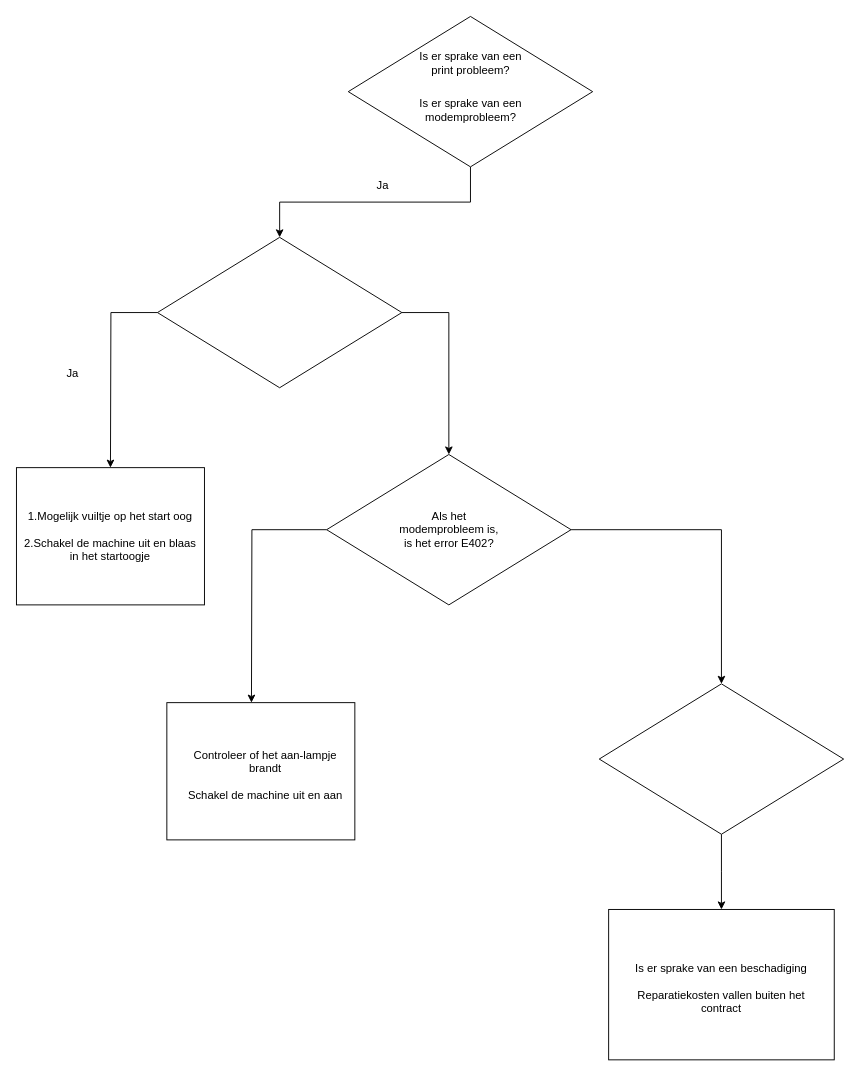
Image size: 860x1076. Some labels were removed from this diagram. The shapes that lost their labels are listed below. From the top down, each one's box as (x1, y1, x2, y2) in pixels, then its label:
(157, 236, 402, 388): Als het een modemprobleem is, is het error E93?
(598, 683, 844, 834): Als het modemprobleem is, is het error E405 ?
